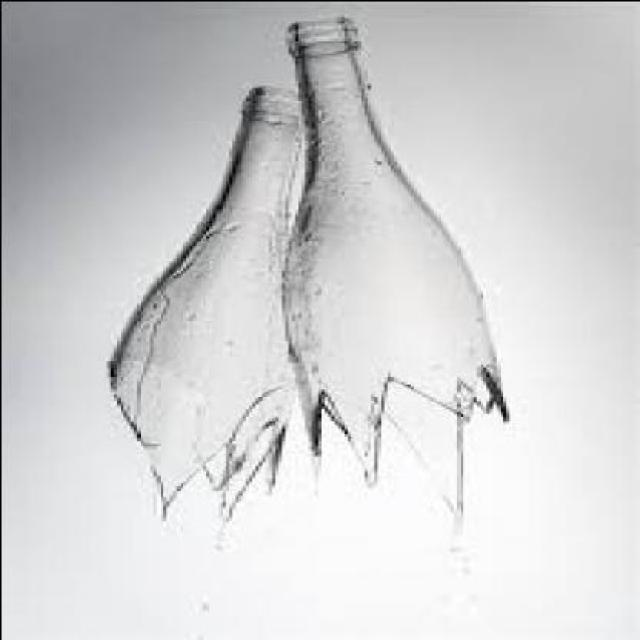glass: (274, 11, 501, 515), (101, 83, 297, 517)
